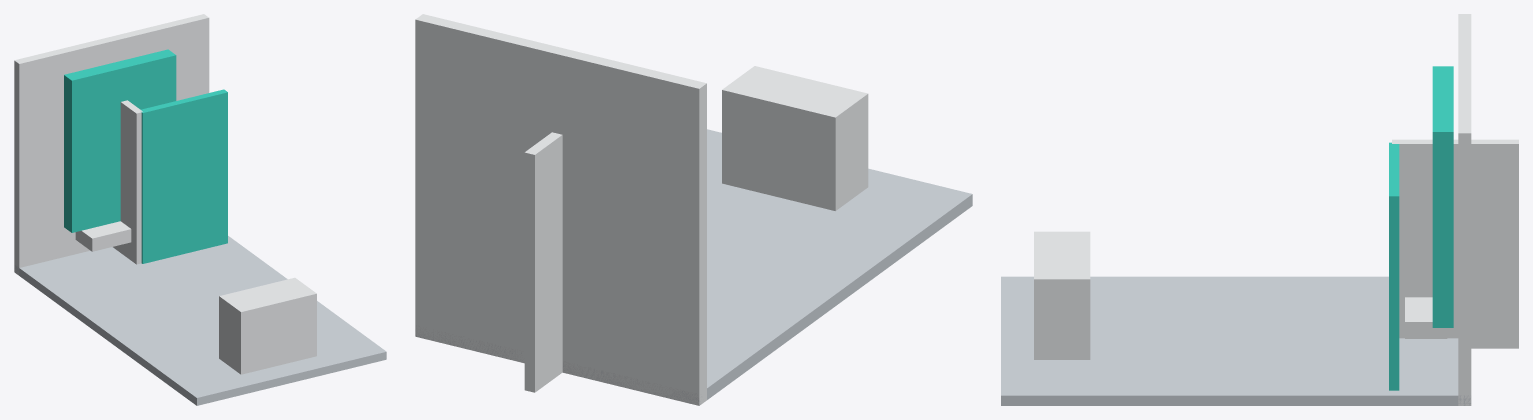
3 views of the same model, side by side, from view 1: azimuth 30°, elevation 25°; view 2: azimuth 150°, elevation 25°; view 3: azimuth 270°, elevation 25° (orthographic). The views are drawn at different scales.
Visible parts, largest first — view 1: Exhibition Booth Concept; view 2: Exhibition Booth Concept; view 3: Exhibition Booth Concept.
Boxes of the visible parts, x1=… form: Exhibition Booth Concept: x1=14, y1=14, x2=386, y2=405; Exhibition Booth Concept: x1=415, y1=14, x2=972, y2=405; Exhibition Booth Concept: x1=1001, y1=14, x2=1518, y2=405.
Size of the model in its own units: 3 by 3.2 by 5.51.
